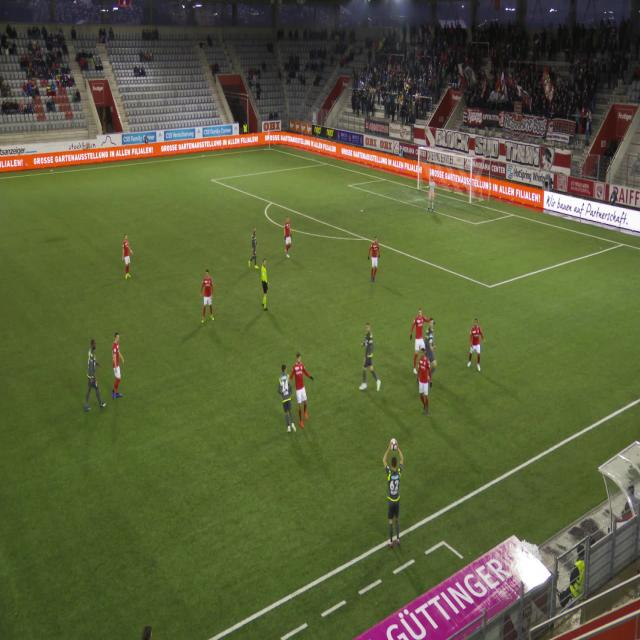Ball: (388, 432, 399, 458)
Player: (378, 434, 414, 552), (78, 338, 108, 420), (355, 316, 379, 402), (274, 361, 298, 442), (293, 346, 315, 433), (194, 264, 219, 325), (364, 231, 388, 292), (414, 347, 434, 419), (108, 327, 125, 408), (408, 302, 428, 368), (466, 312, 486, 378), (421, 316, 441, 376), (121, 227, 139, 283), (277, 209, 295, 265), (246, 220, 262, 270), (423, 173, 439, 220)
Referee: (260, 255, 272, 319)
